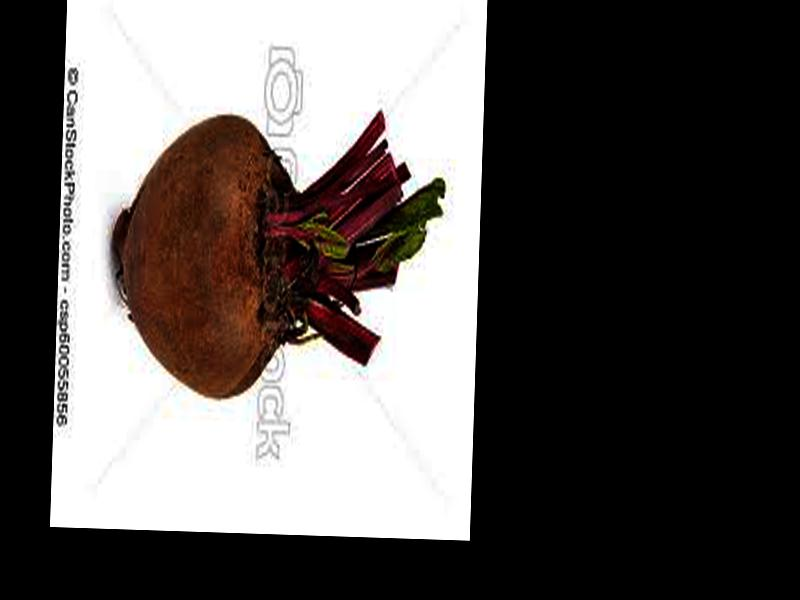Beet: (108, 103, 446, 408)
